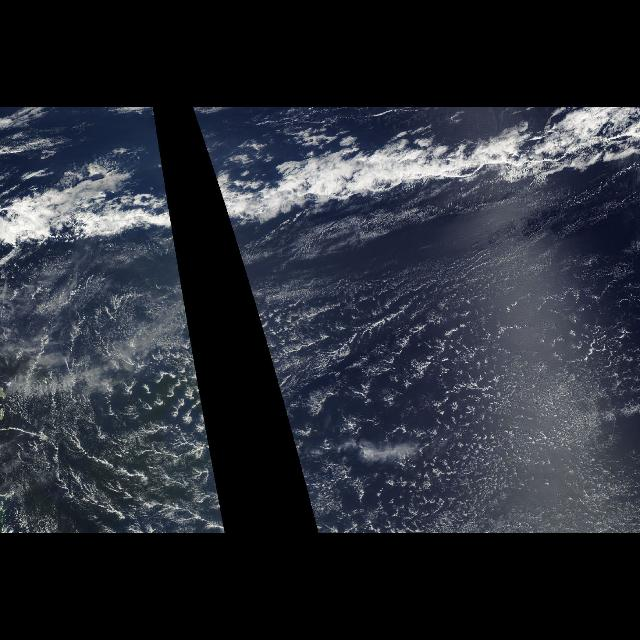Fish: (191, 108, 639, 258), (12, 108, 180, 258)
Gravel: (244, 277, 634, 525), (8, 277, 226, 525)
Sugar: (243, 225, 639, 532), (2, 251, 226, 534)
